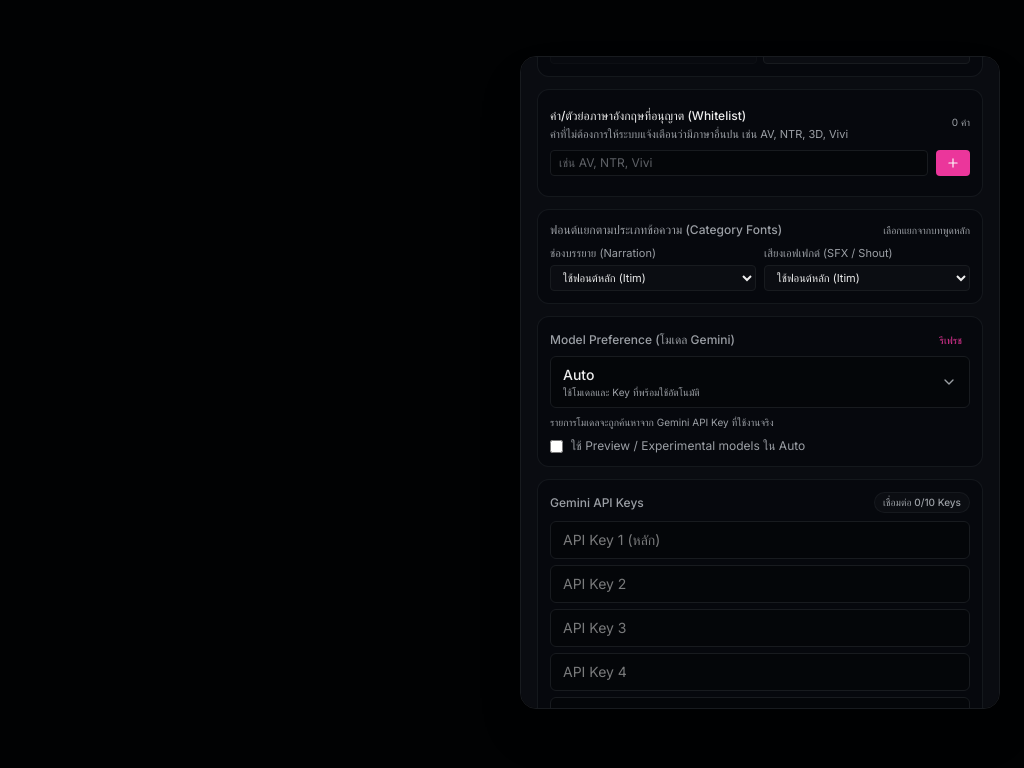
Scenario: SettingsModal dynamic Gemini catalog › does not offer models from a bootstrap catalog that could not validate any key
The width and height of the screenshot is (1024, 768).
(page scrolled)
Click the button with aria-label "Model Preference".
click(579, 374)  # box [550,356,970,408]
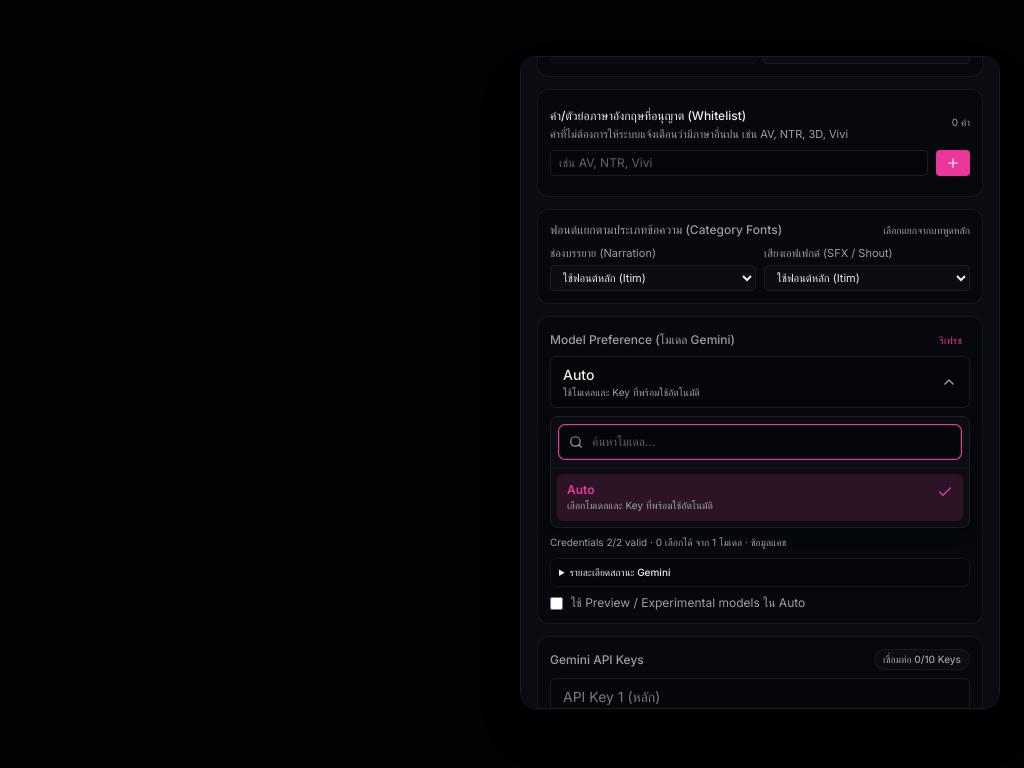
Result: the text "Credentials 2/2 valid · 0 เลือกได้ จาก 1 โมเดล · ข้อมูลแคช" is shown at [550,534,786,550]
Result: the option "Auto เลือกโมเดลและ Key ที่พร้อมใช้อัตโนมัติ" is shown at [557,474,963,521]
